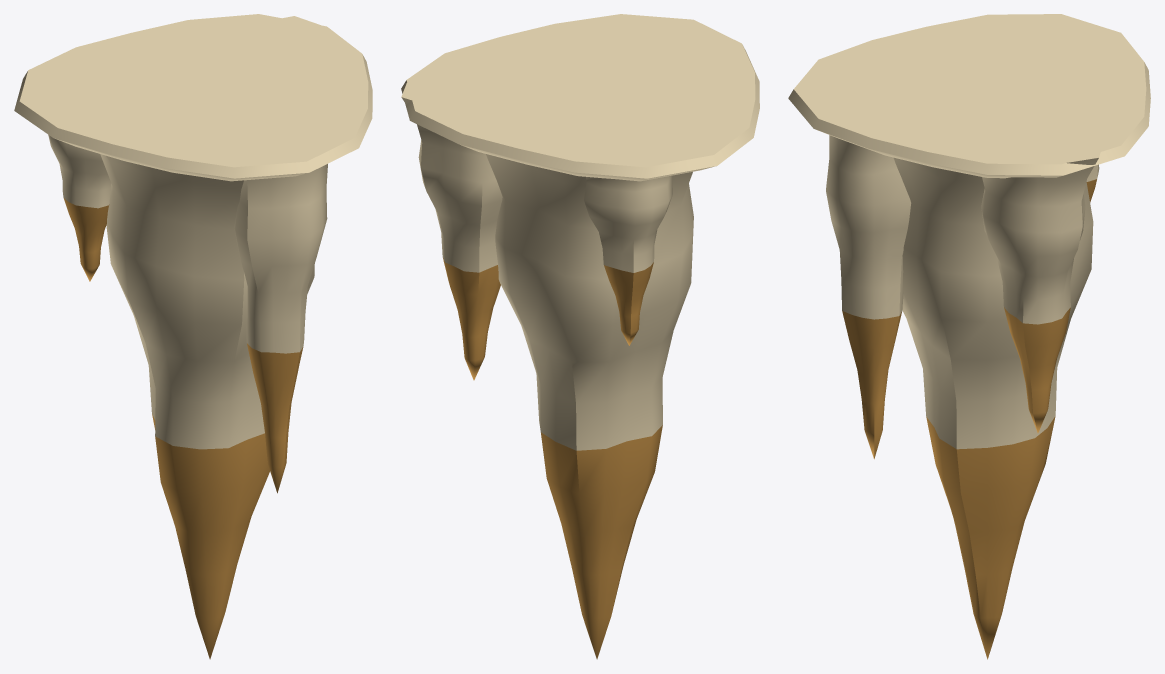
The model's file is stalactite.glb.
3 renders of one model, left to right at view 1: azimuth 30°, elevation 25°; view 2: azimuth 150°, elevation 25°; view 3: azimuth 270°, elevation 25°, orthographic.
Visible parts, largest first — view 1: stalactite; view 2: stalactite; view 3: stalactite.
Boxes of the visible parts, x1,y1,x2,y2 form: stalactite: (14, 14, 372, 659); stalactite: (401, 14, 759, 659); stalactite: (788, 14, 1150, 659).
Bounding box in the file's own units: 1.45 × 2.5 × 1.44.
